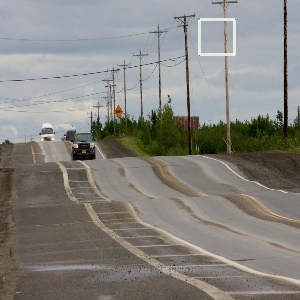square: (196, 16, 239, 58)
